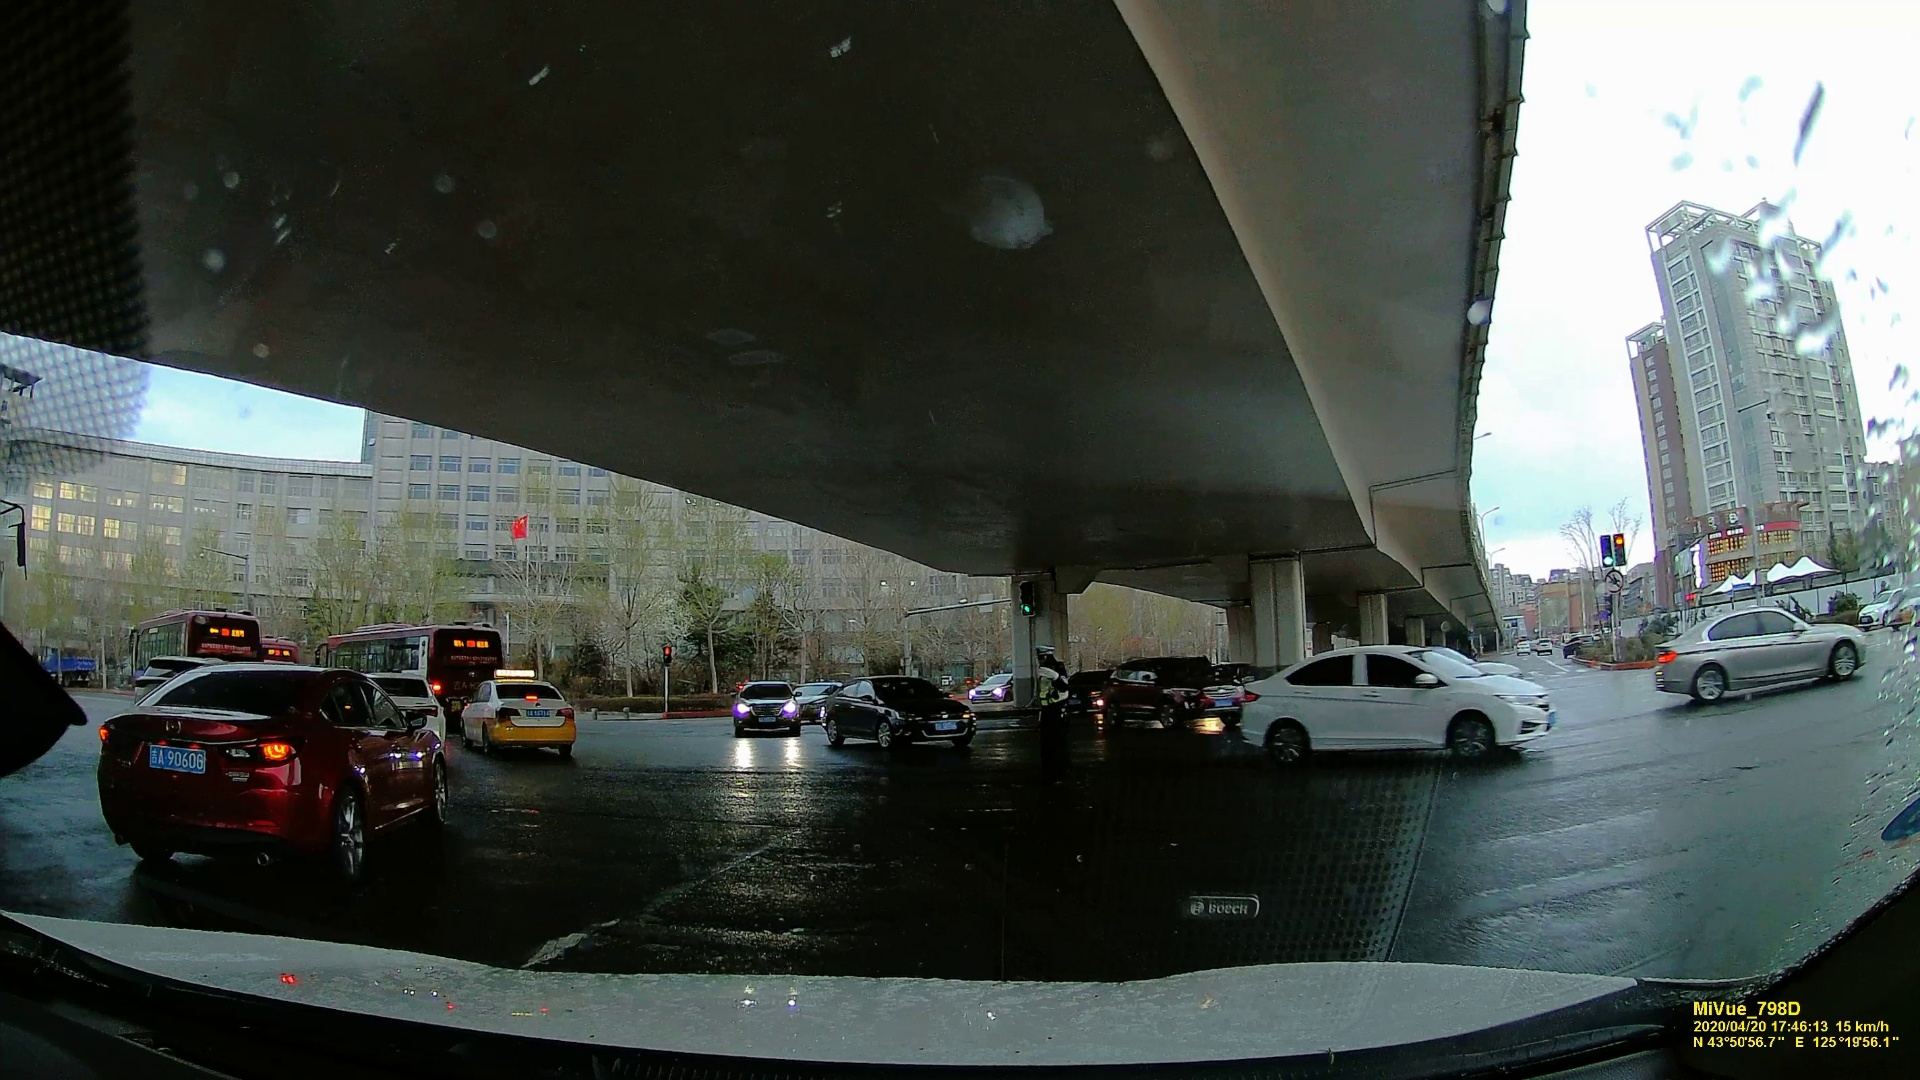bus: (314, 630, 502, 704), (123, 618, 258, 665)
traffic_sign: (1597, 534, 1611, 567), (1604, 570, 1625, 592), (1614, 533, 1627, 566)
vehicle: (98, 651, 446, 885), (1228, 644, 1555, 767), (1651, 608, 1870, 704), (811, 673, 975, 756), (1100, 655, 1251, 737), (454, 673, 578, 760), (728, 680, 802, 736)
